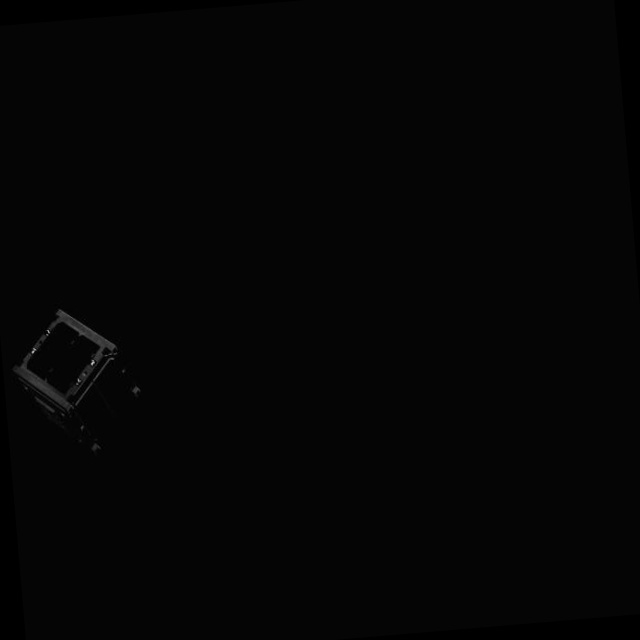satellite: (7, 298, 155, 476)
